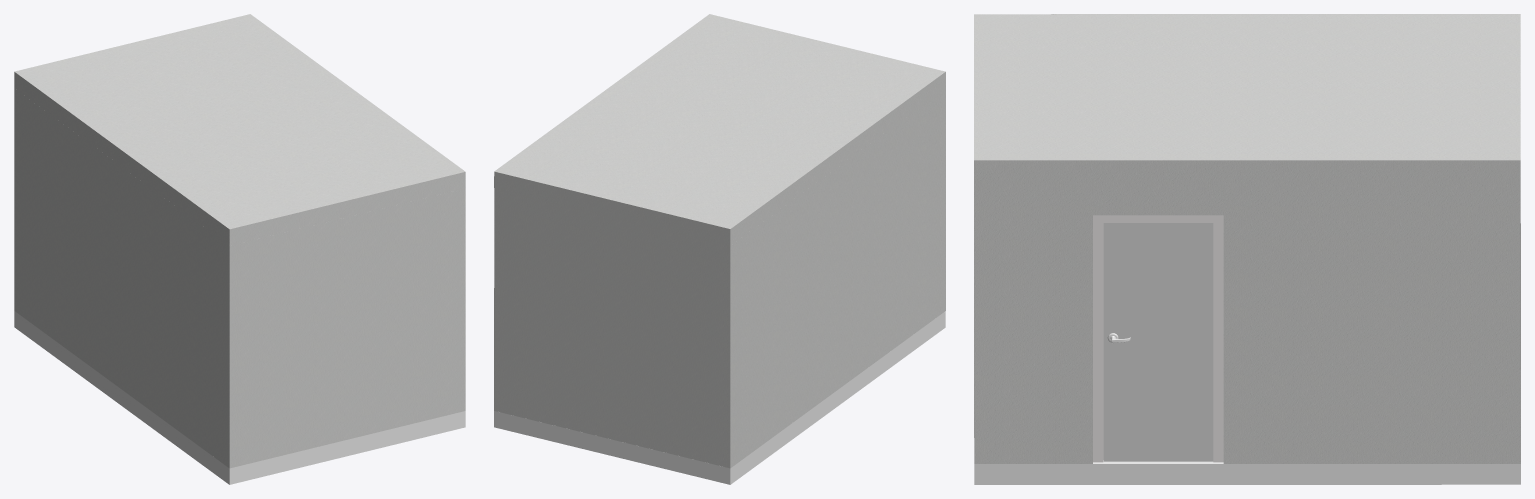
File: FloorPlan409_physics.fbx
3 renders of one model, left to right at view 1: azimuth 30°, elevation 25°; view 2: azimuth 150°, elevation 25°; view 3: azimuth 270°, elevation 25°, orthographic. The views are drawn at different scales.
Visible parts, largest first — view 1: FP409:Walls, FP409:Ceiling, FP409:Floor; view 2: FP409:Walls, FP409:Ceiling, FP409:Floor; view 3: FP409:Walls, FP409:Ceiling, FP409:Door.017, FP409:Floor, FP409:DoorFrame.017.
Part boxes in pixels (bbox=[...]): FP409:Walls: bbox=[14, 88, 465, 468]; FP409:Ceiling: bbox=[14, 14, 465, 245]; FP409:Floor: bbox=[14, 311, 465, 484]; FP409:Walls: bbox=[494, 88, 945, 468]; FP409:Ceiling: bbox=[494, 14, 945, 245]; FP409:Floor: bbox=[494, 311, 945, 484]; FP409:Walls: bbox=[974, 181, 1520, 463]; FP409:Ceiling: bbox=[974, 14, 1520, 181]; FP409:Door.017: bbox=[1103, 223, 1213, 461]; FP409:Floor: bbox=[974, 460, 1520, 484]; FP409:DoorFrame.017: bbox=[1093, 215, 1223, 462].
Bounding box in the file's own units: 268 × 274 × 418.
